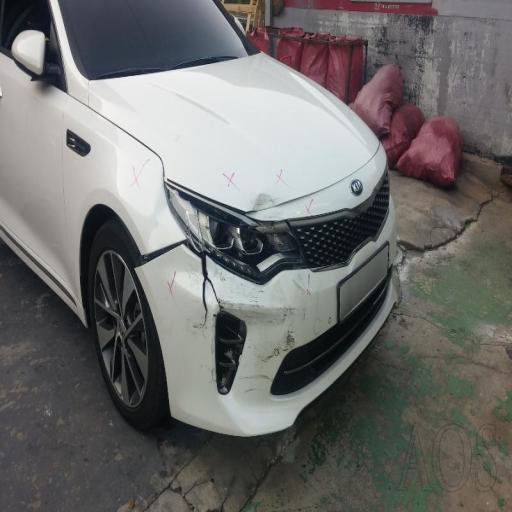broken: (113, 182, 222, 336)
scratch: (228, 269, 309, 381)
